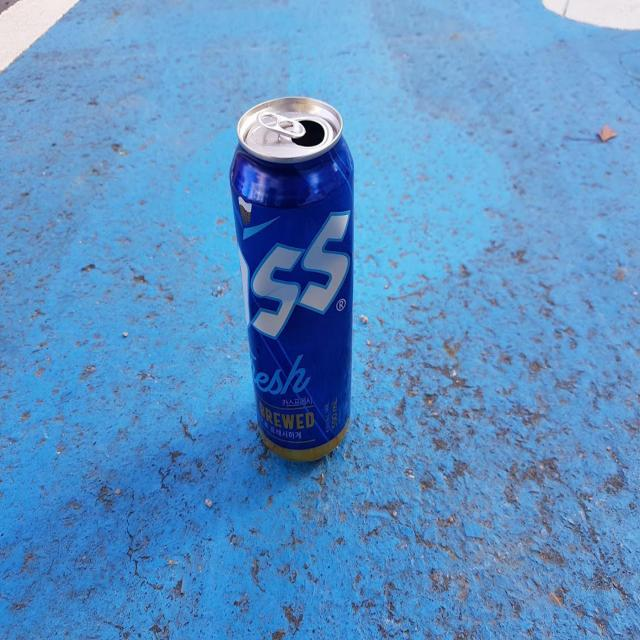can: (230, 96, 354, 461)
